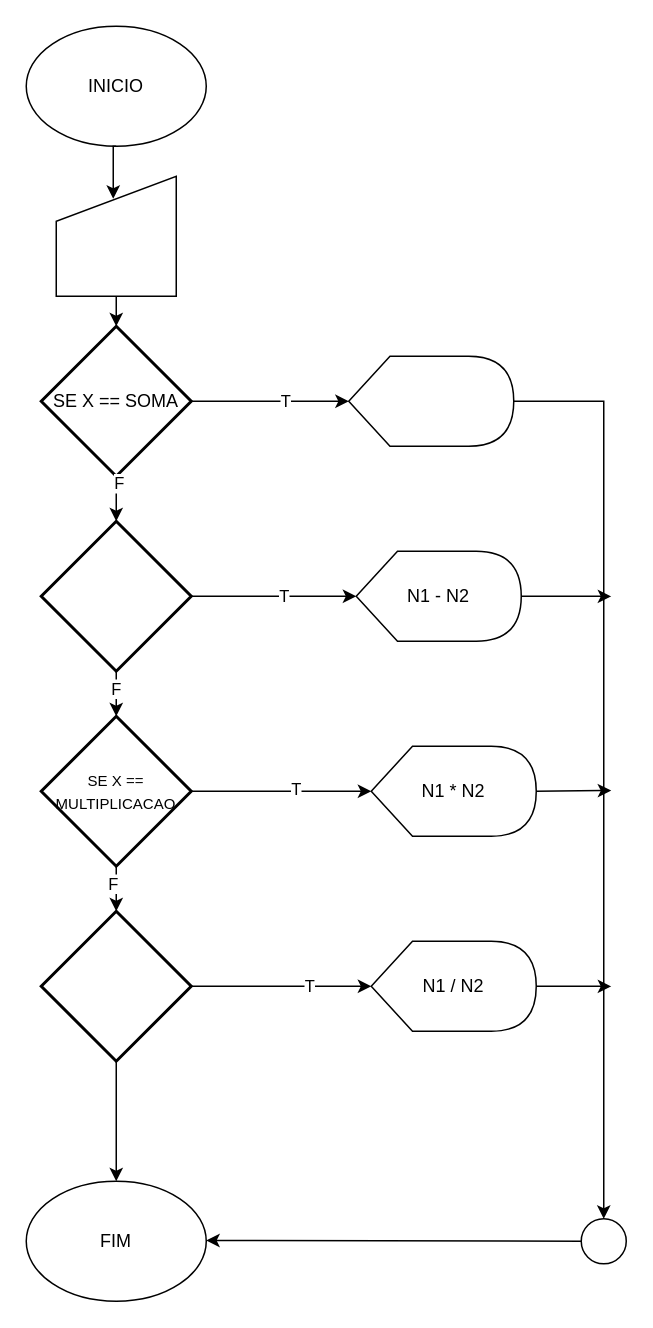
Image size: 653x1328. Some labels were removed from this diagram. The centre of each missing label's shape, as x and y in pixels:
"ESCOHA A OPERACAO:" goes at (115,235).
"N1 + N2" goes at (430,400).
"SE X == DIVISAO" goes at (115,985).
"SE X == SUBTRACAO" goes at (115,595).
